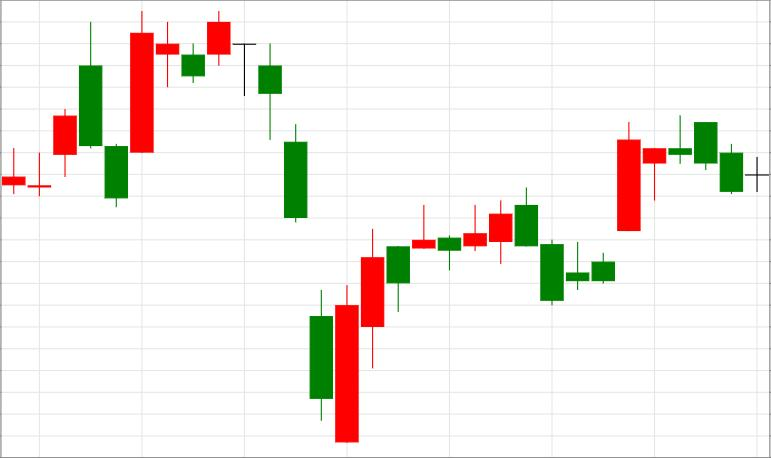bullish_engulfing_rise: (207, 12, 359, 442)
